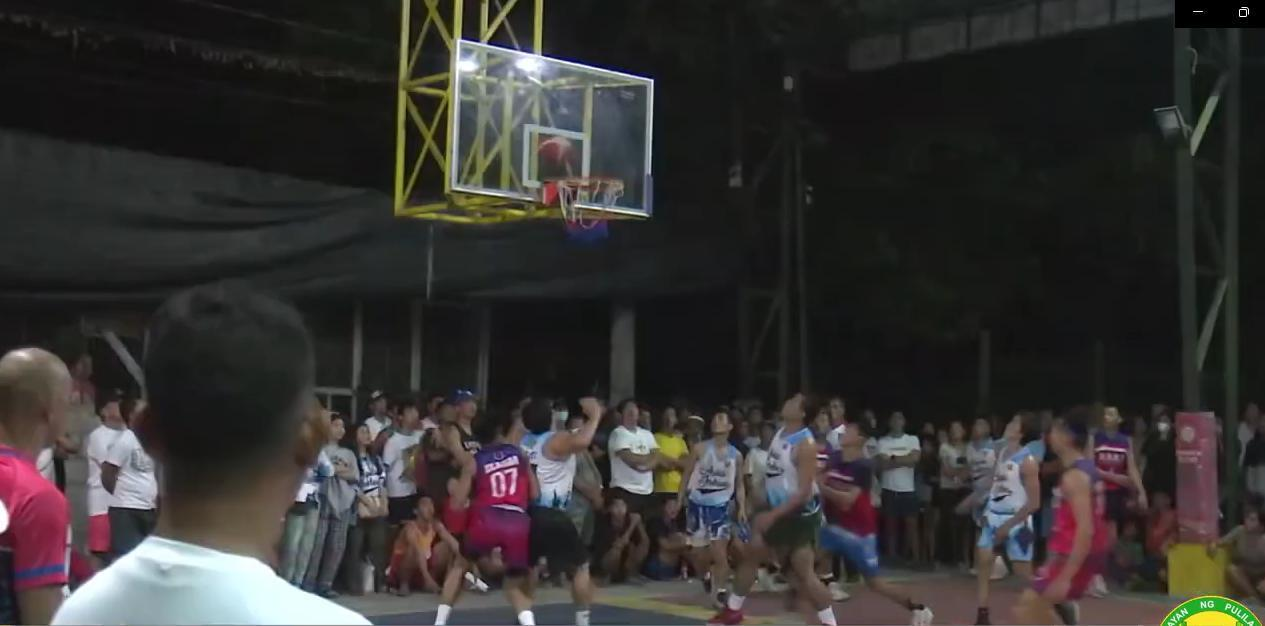ball: (537, 130, 579, 175)
human: (35, 257, 392, 626), (0, 320, 93, 626), (435, 395, 548, 626), (820, 405, 935, 626), (518, 377, 620, 626), (750, 375, 843, 626), (670, 392, 760, 626), (963, 403, 1056, 626), (1043, 410, 1110, 626), (1085, 393, 1140, 518)
rim: (553, 171, 630, 254)
